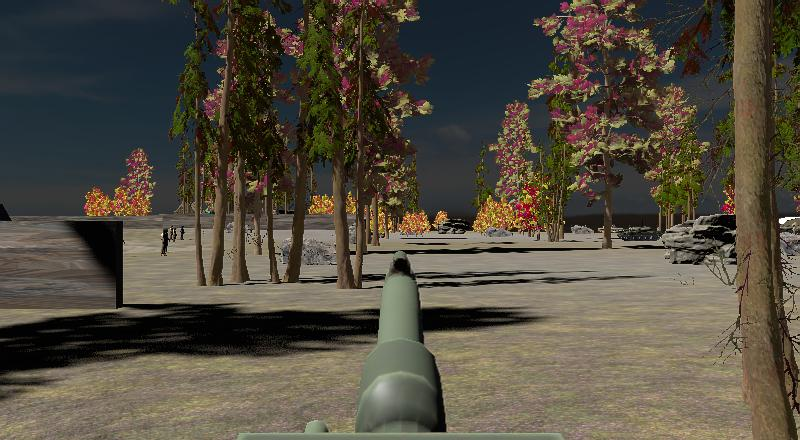Human: (159, 226, 171, 258)
Tank: (614, 223, 664, 243)
